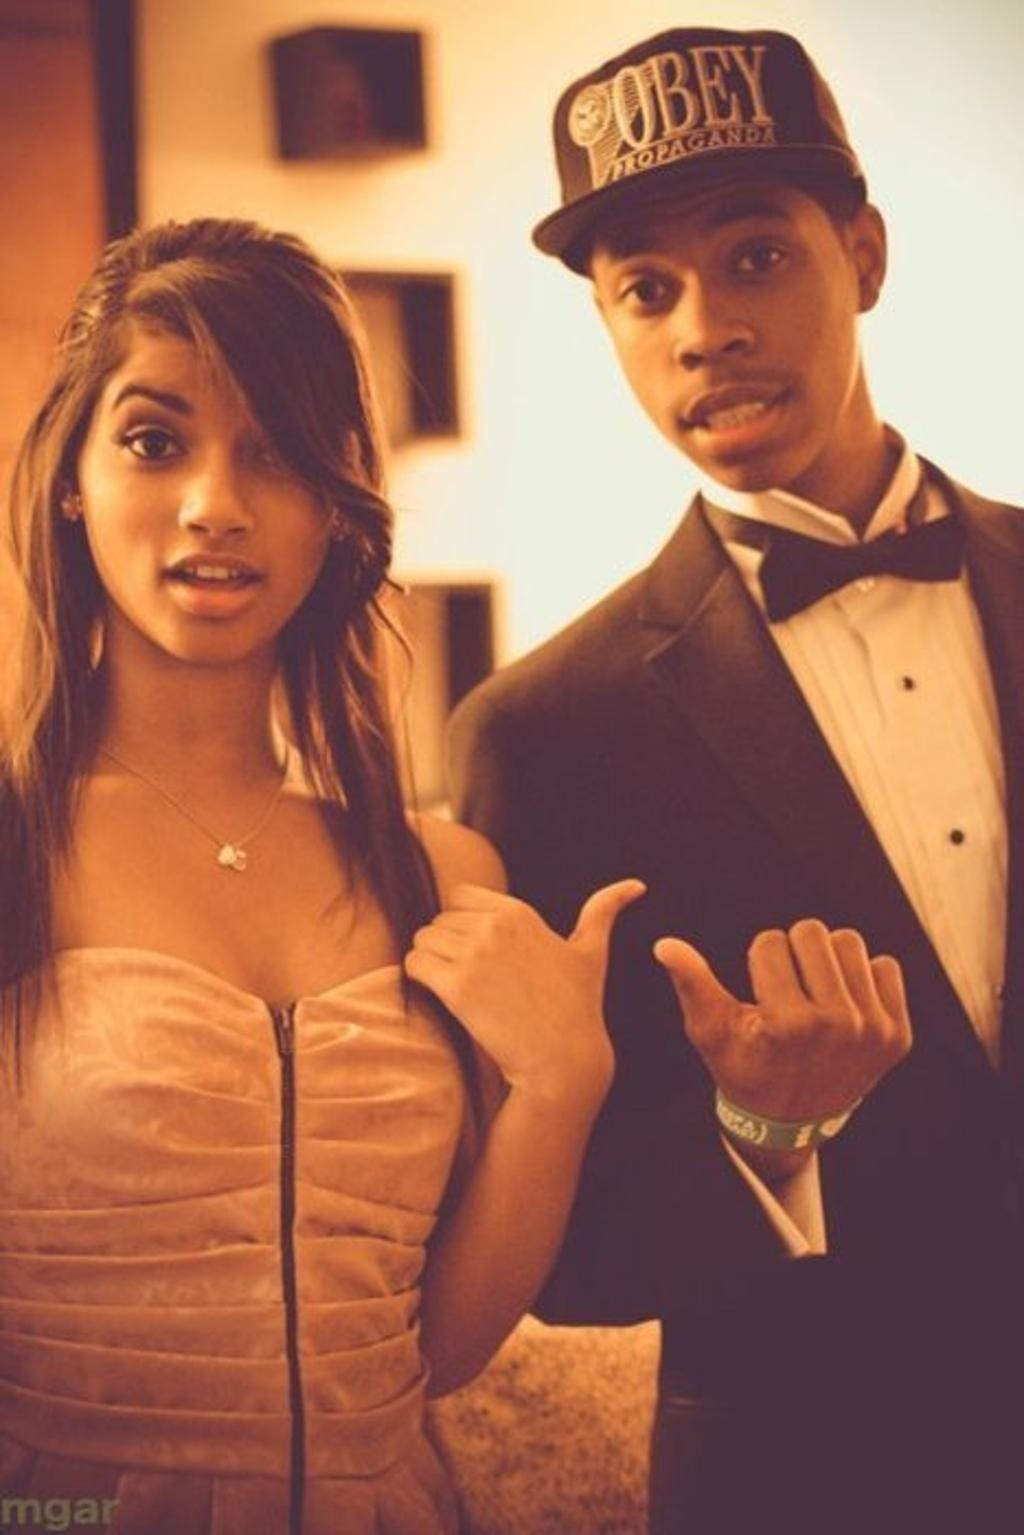face: (75, 290, 350, 664), (593, 135, 859, 488)
